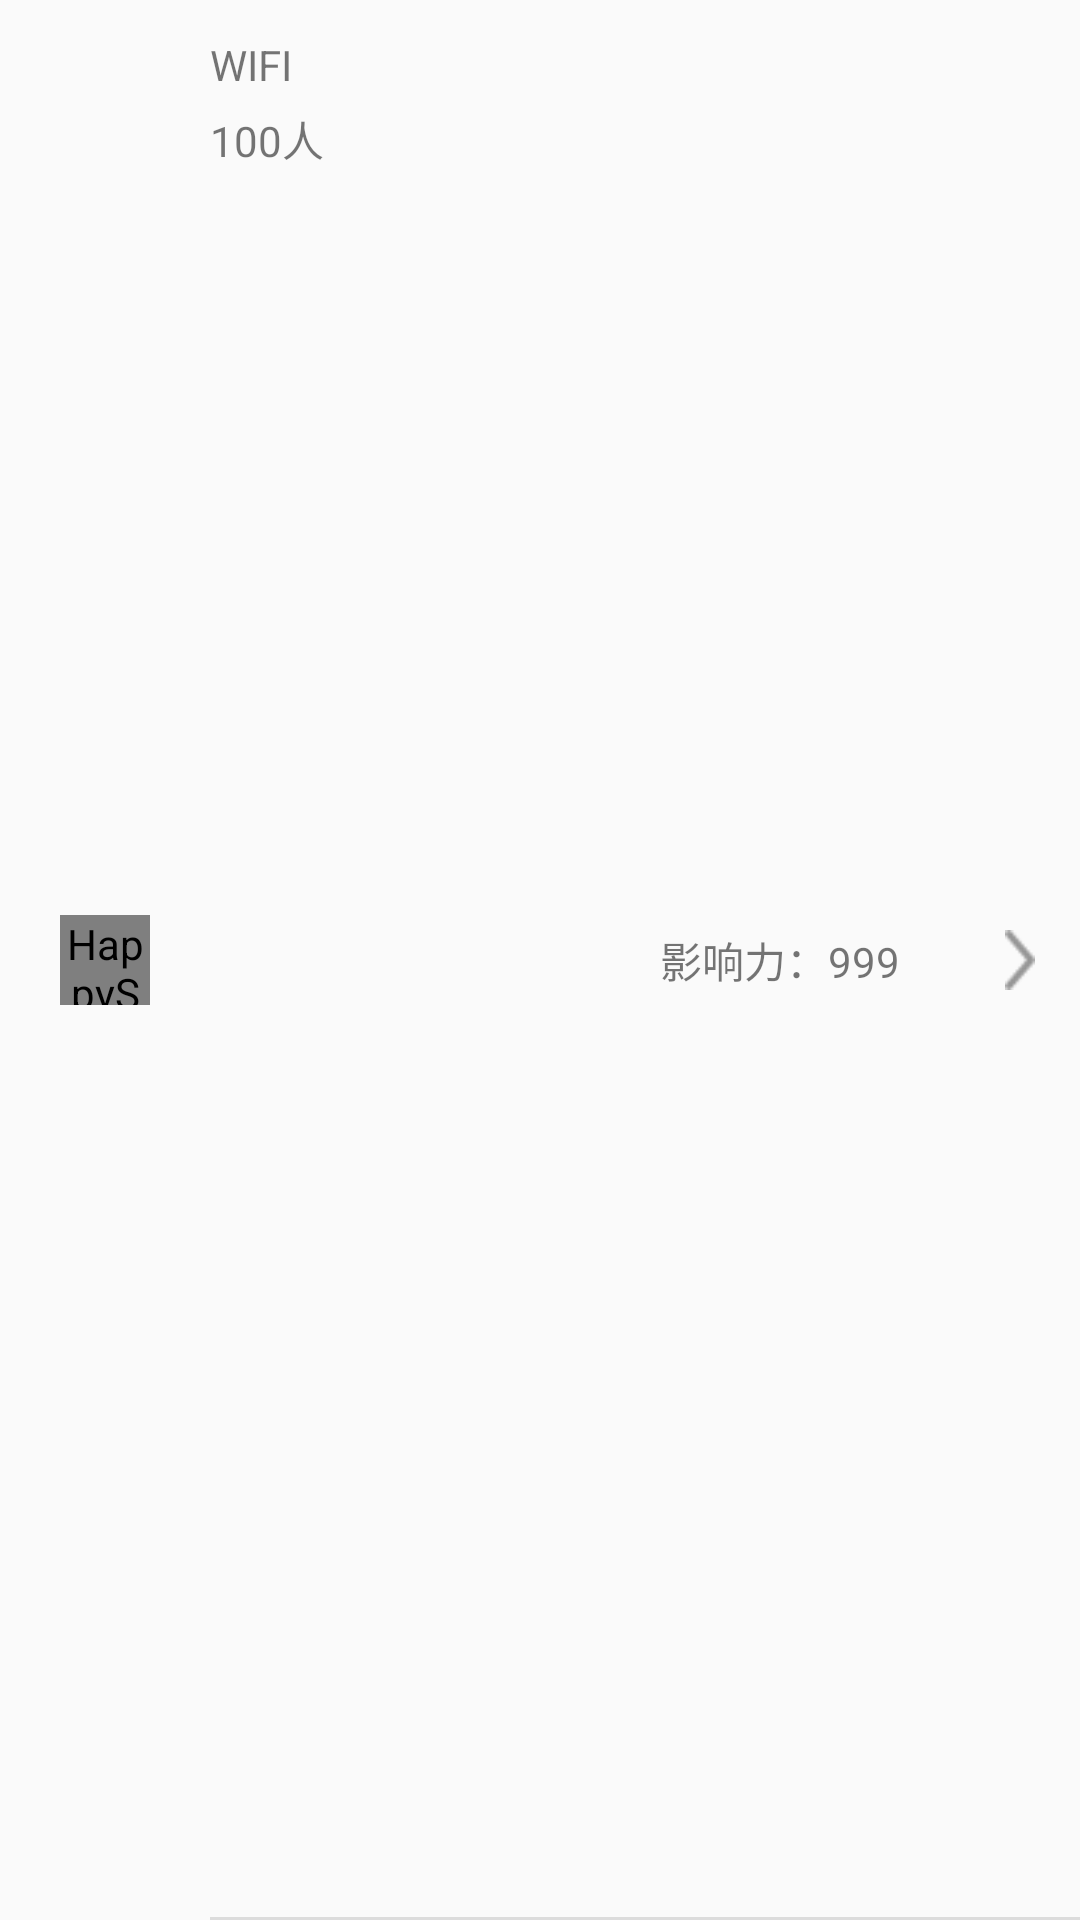

Named icons in this screenshot (1080×1920) and their bounding boxes, [x1=x1, y1=y1, x2=x2, y2=y2]:
select: [x1=1005, y1=930, x2=1035, y2=990]
